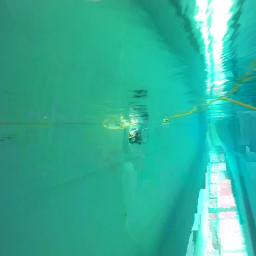Full: (130, 128, 147, 144)
